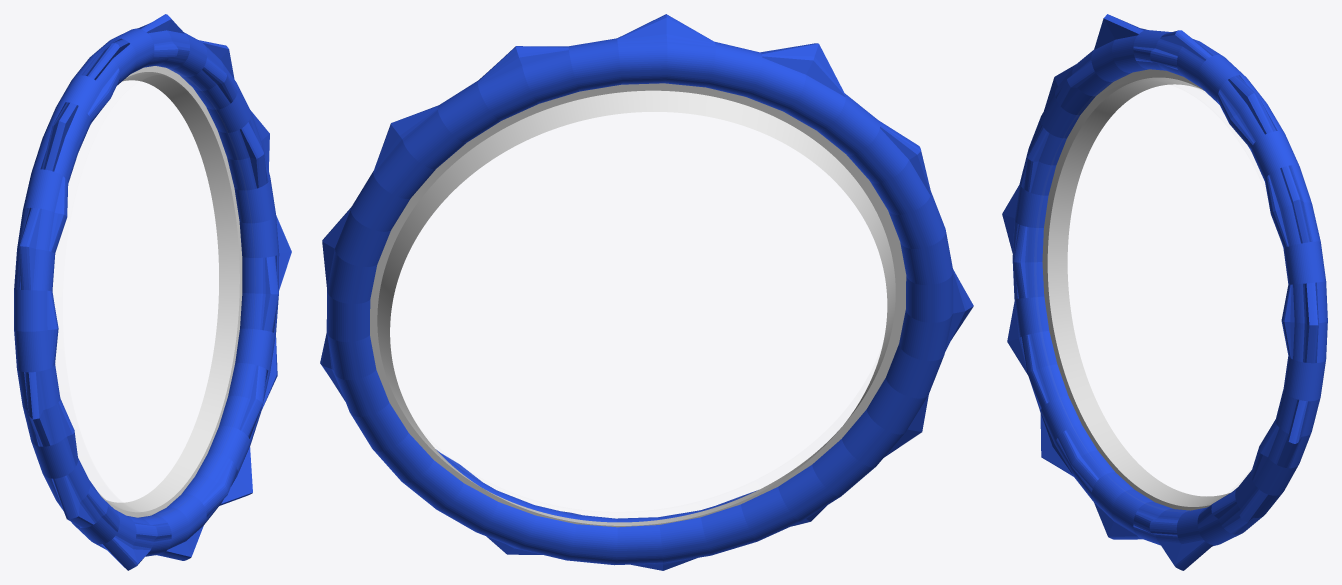
The model's file is blueBezel.draco.glb.
3 renders of one model, left to right at view 1: azimuth 30°, elevation 25°; view 2: azimuth 150°, elevation 25°; view 3: azimuth 270°, elevation 25°, orthographic. The views are drawn at different scales.
Parts seen in each view (by area): view 1: Circle, case_logo_rolex_8; view 2: Circle, case_logo_rolex_8; view 3: Circle, case_logo_rolex_8.
Boxes of the visible parts, x1,y1,x2,y2 form: Circle: (14,14,291,570); case_logo_rolex_8: (99,66,242,517); Circle: (320,14,973,570); case_logo_rolex_8: (370,83,906,527); Circle: (1002,14,1327,570); case_logo_rolex_8: (1042,69,1230,510).
Size of the model in its own units: 0.0238 by 0.0282 by 0.0169.
